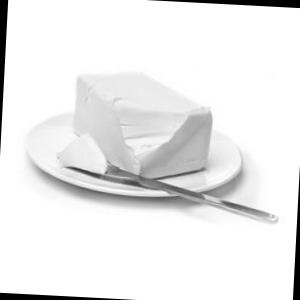butter: (65, 57, 224, 200)
